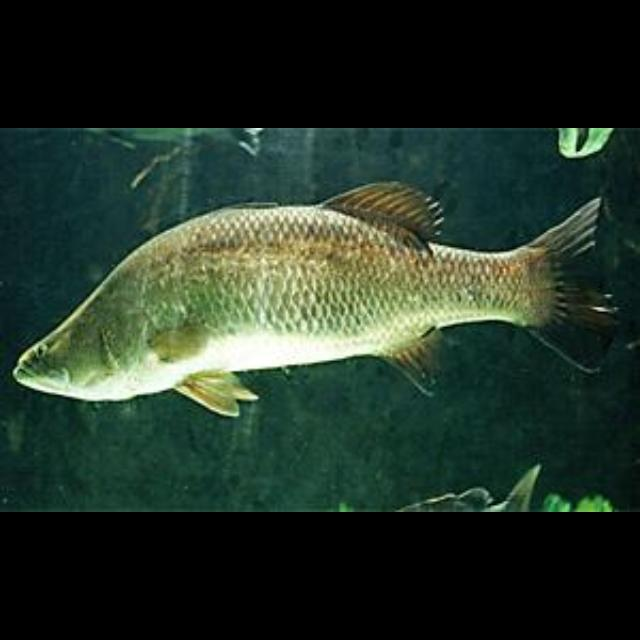Seabass: (12, 180, 622, 416)
